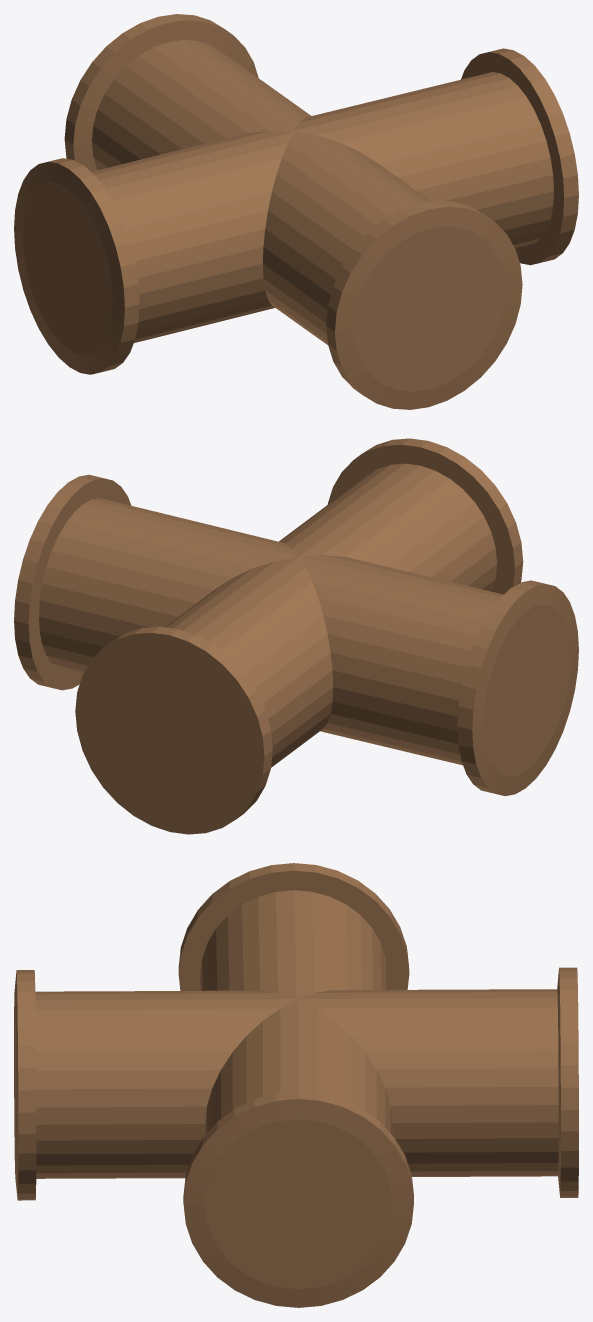
Rendered from rohr_X.fbx.
3 renders of one model, top to bottom at view 1: azimuth 30°, elevation 25°; view 2: azimuth 150°, elevation 25°; view 3: azimuth 270°, elevation 25°, orthographic. The views are drawn at different scales.
Visible parts, largest first — view 1: Zylinder.007; view 2: Zylinder.007; view 3: Zylinder.007.
Boxes of the visible parts, <box> form: Zylinder.007: <box>14,14,578,409</box>; Zylinder.007: <box>14,438,578,834</box>; Zylinder.007: <box>14,863,578,1307</box>.
Size of the model in its own units: 120 by 49.21 by 121.
